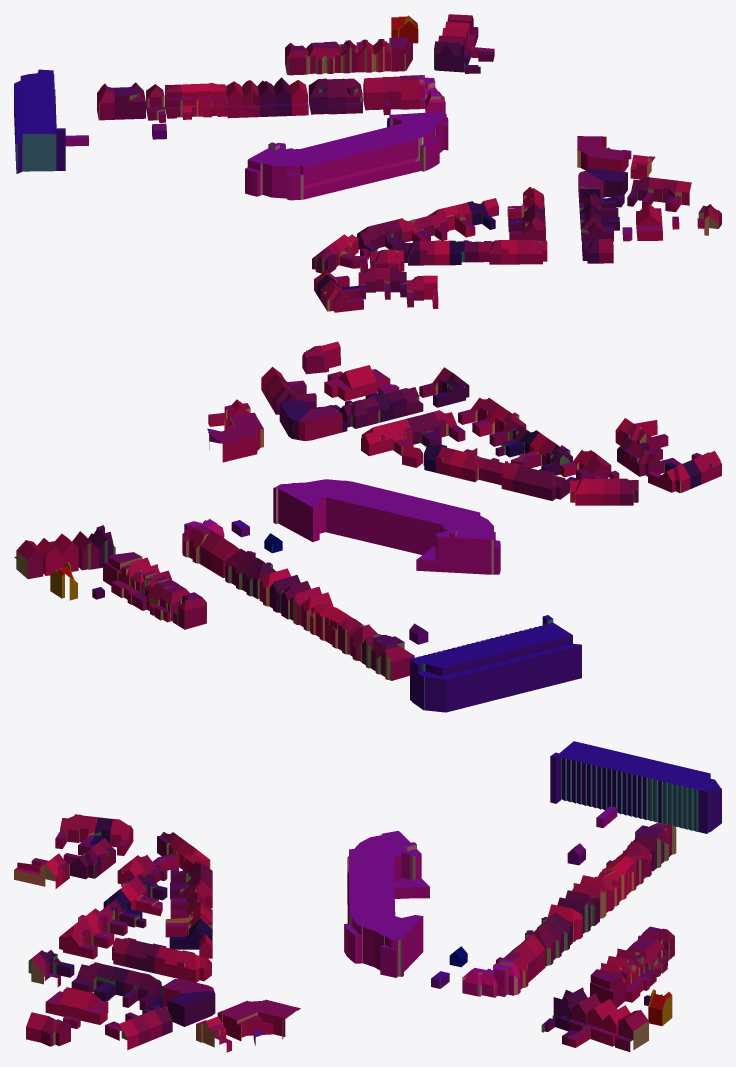
File: buildings_7_13.glb
3 renders of one model, top to bottom at view 1: azimuth 30°, elevation 25°; view 2: azimuth 150°, elevation 25°; view 3: azimuth 270°, elevation 25°, orthographic. The views are drawn at different scales.
Parts seen in each view (by area): view 1: buildings_7_13; view 2: buildings_7_13; view 3: buildings_7_13.
Boxes of the visible parts, <box> form: buildings_7_13: <box>14,14,721,312</box>; buildings_7_13: <box>14,341,721,712</box>; buildings_7_13: <box>14,741,721,1052</box>.
Bounding box in the file's own units: 206 × 16.3 × 226.
